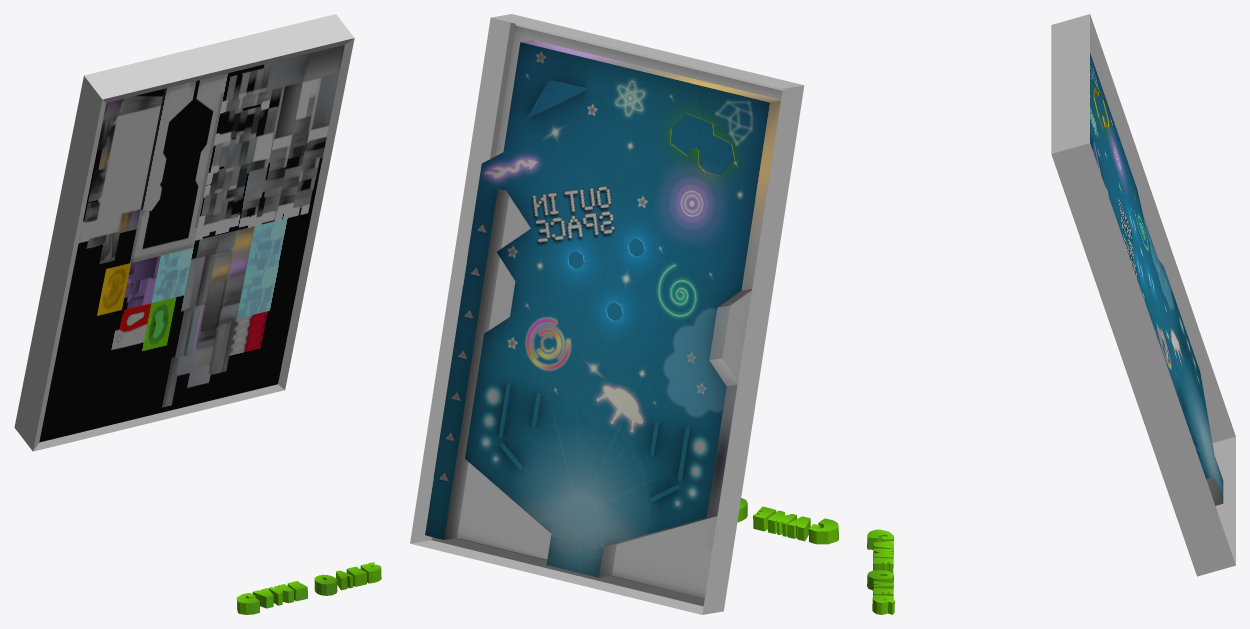
File: pinball.obj
3 views of the same model, side by side, from view 1: azimuth 30°, elevation 25°; view 2: azimuth 150°, elevation 25°; view 3: azimuth 270°, elevation 25° (orthographic). The views are drawn at different scales.
Visible parts, largest first — view 1: glass_Cube.000, frame_Cube.001, game_over_Mesh; view 2: table_Cube.003, frame_Cube.001, game_over_Mesh; view 3: frame_Cube.001, table_Cube.003, game_over_Mesh.
Boxes of the visible parts, x1,y1,x2,y2 form: glass_Cube.000: [39, 45, 344, 442]; frame_Cube.001: [14, 14, 354, 451]; game_over_Mesh: [236, 562, 381, 614]; table_Cube.003: [425, 42, 770, 577]; frame_Cube.001: [410, 14, 804, 614]; game_over_Mesh: [737, 498, 838, 544]; frame_Cube.001: [1051, 14, 1235, 576]; table_Cube.003: [1090, 53, 1223, 502]; game_over_Mesh: [867, 529, 894, 614].
Size of the model in its own units: 15 by 27.13 by 18.13.
